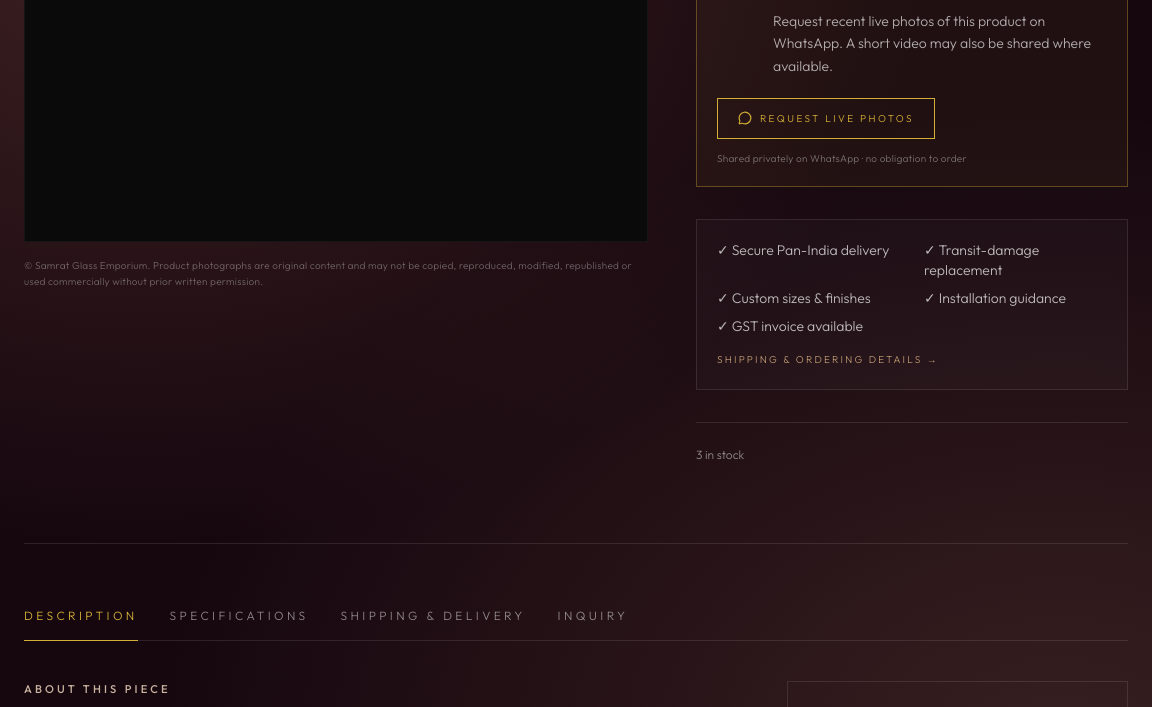
Test: ProductDetail — ProductTabs decision flow › Shipping & ordering details activates Shipping & Delivery and scrolls to the tabs
This screenshot has width=1152, height=707.
(page scrolled)
Click the button with test id "buying-confidence-shipping-link" at {"x": 828, "y": 359}, box [717, 352, 939, 367]
(page scrolled)
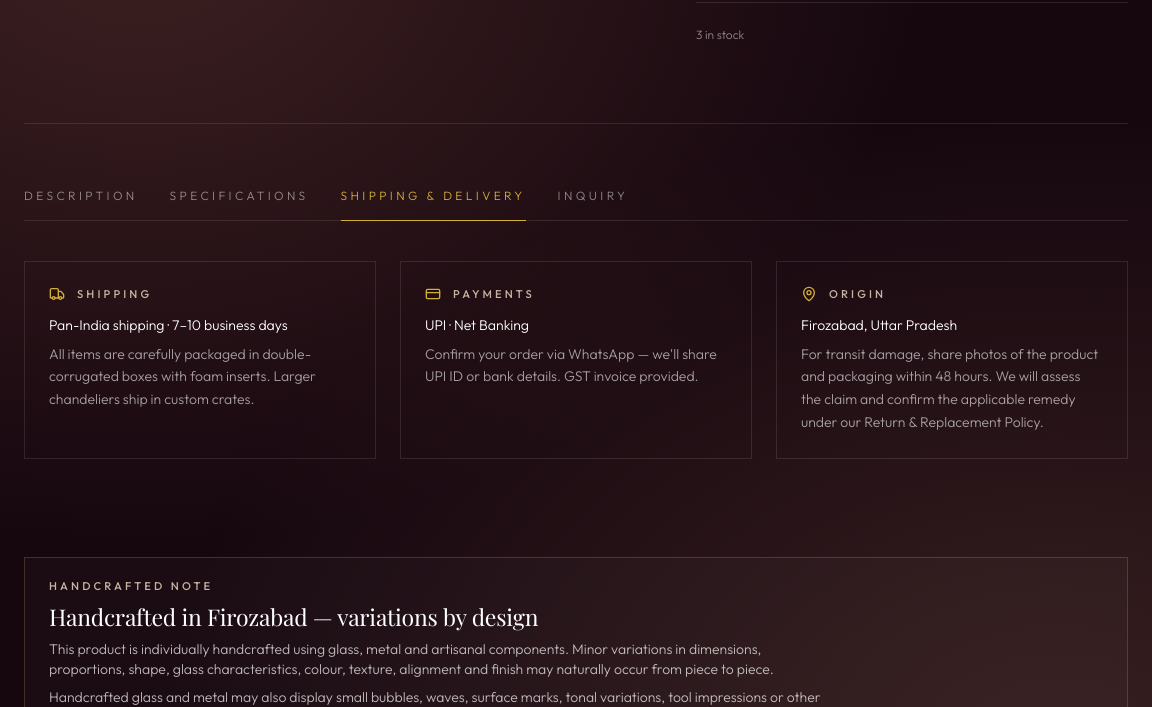
Check: the element with test id "tab-content-shipping" does not show "replace at our cost", box [24, 261, 1128, 459]
Check: the element with test id "tab-content-shipping" is shown, box [24, 261, 1128, 459]
Check: the element with test id "tab-content-shipping" shows "share photos of the product and packaging within 48 hours", box [801, 345, 1098, 431]
